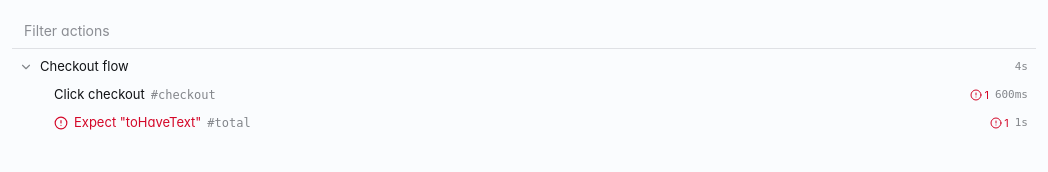
it: ActionList — search › keeps ancestors of a match visible
Type "#checkout" into the search field labelled "Filter actions" at (524, 30), box [12, 12, 1036, 48]
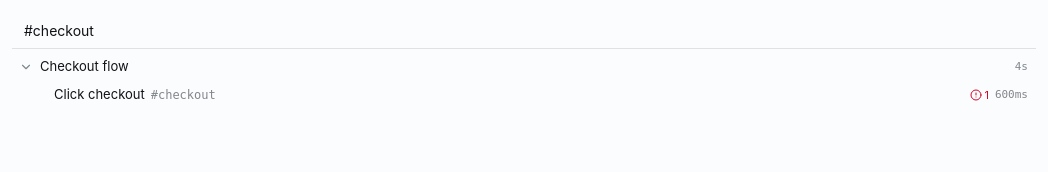
Expected: the text "Click checkout" is shown, [54, 85, 145, 105]
Expected: the option "Expect \"toHaveText\"" is gone
